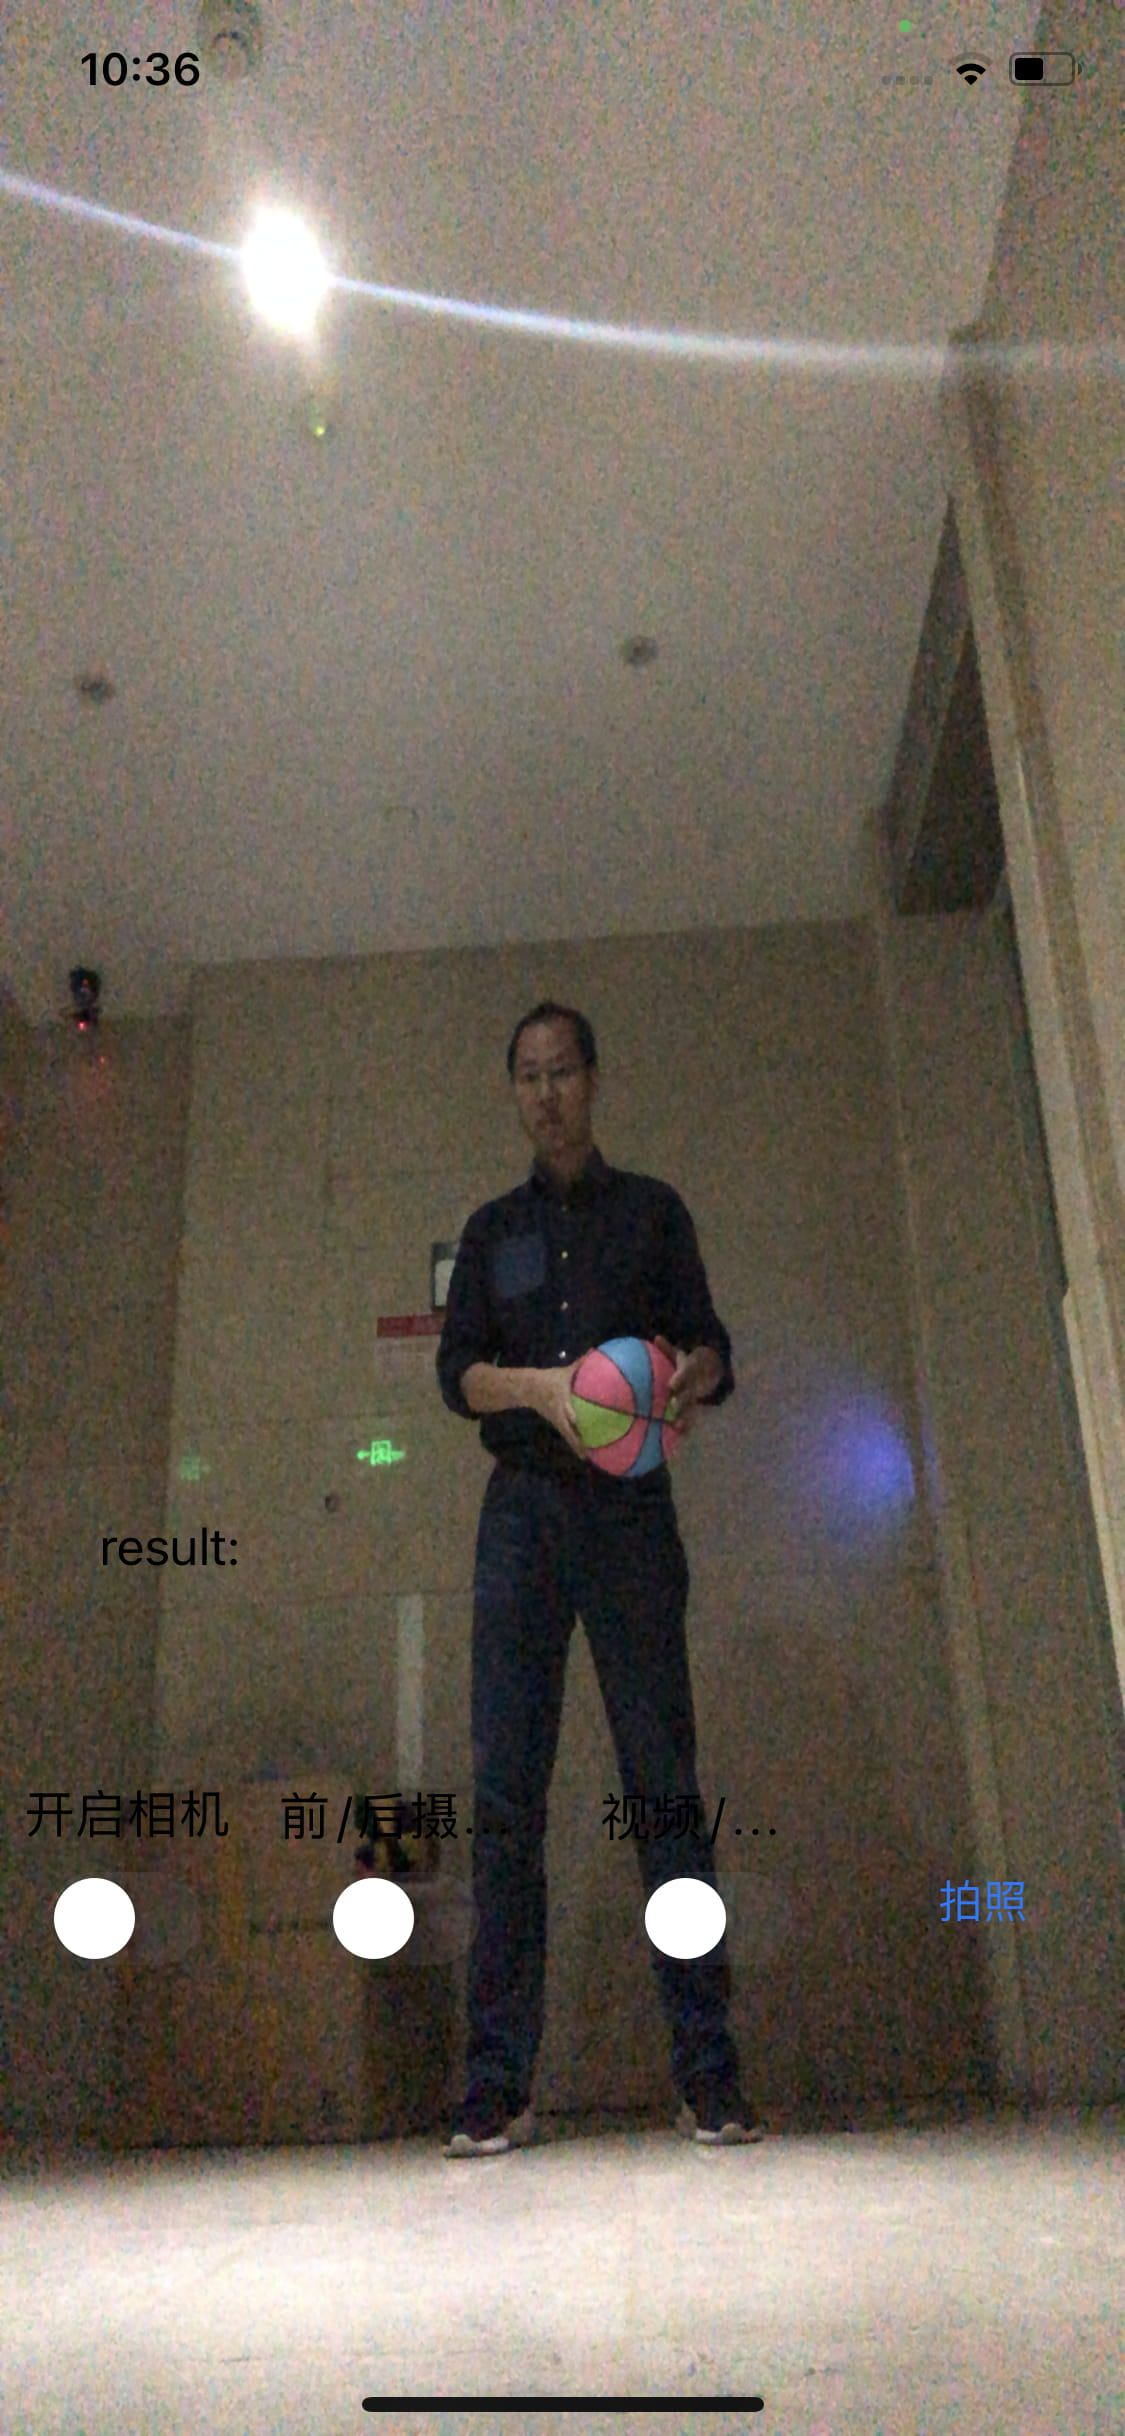ball: (572, 1333, 696, 1481)
